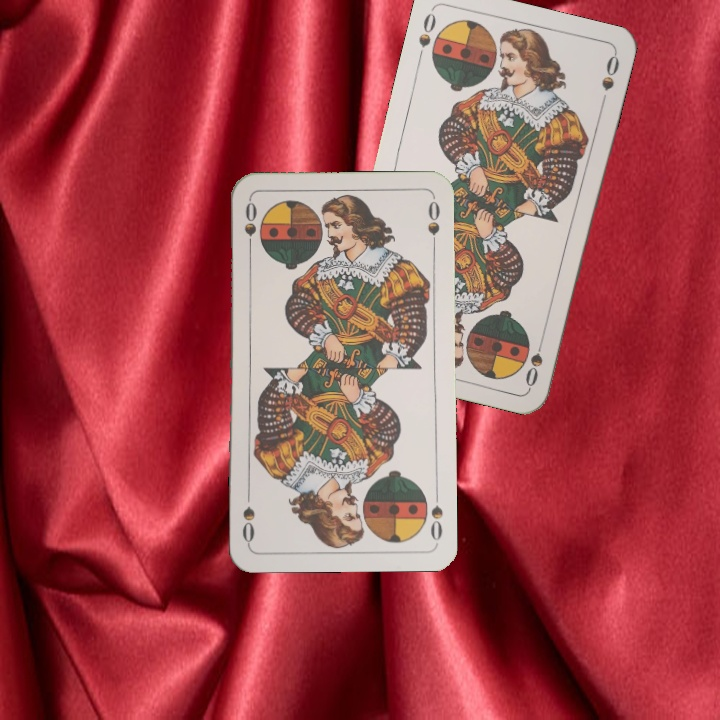SO: (413, 6, 439, 64), (521, 331, 546, 390), (240, 197, 259, 256), (427, 486, 446, 543)
